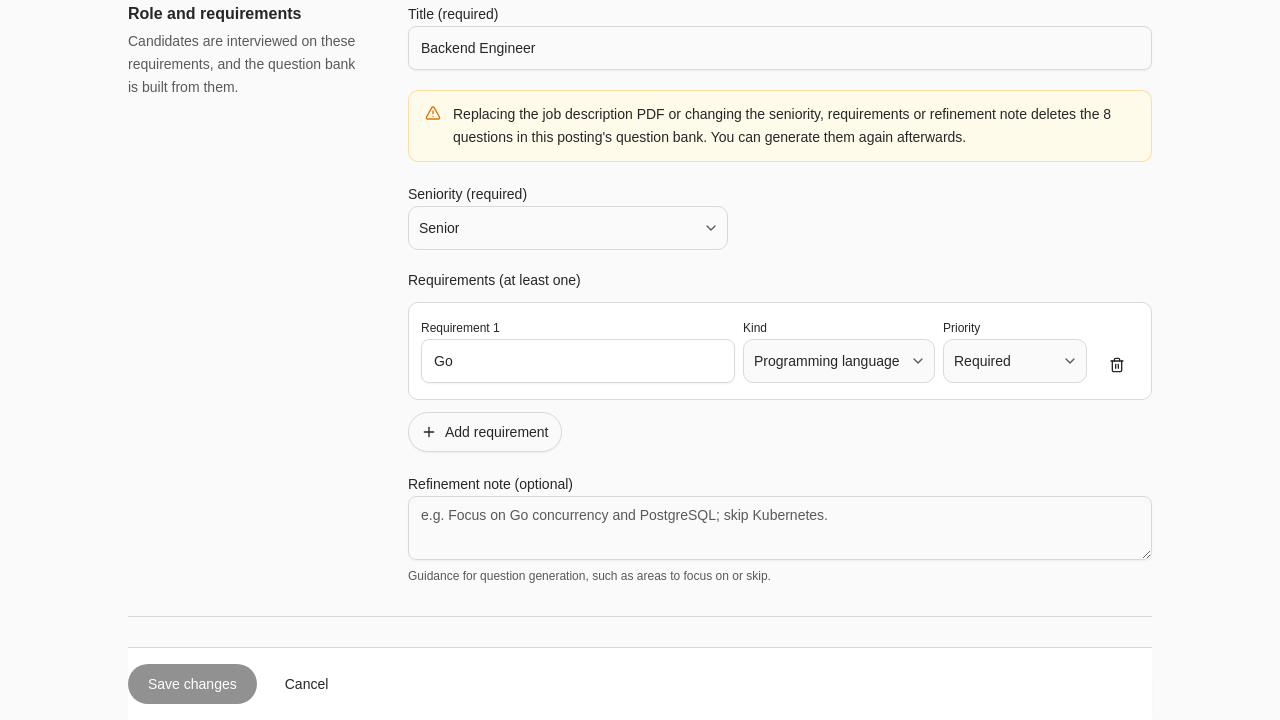
Scenario: JobPostingDetail › drops stale edits and shows the saved requirements after a lock conflict
The image size is (1280, 720).
(page scrolled)
Step 1. Replace the text in the field labelled "Requirement 1" with "Golang" → (578, 361), box top-left (421, 339), bottom-right (735, 383)
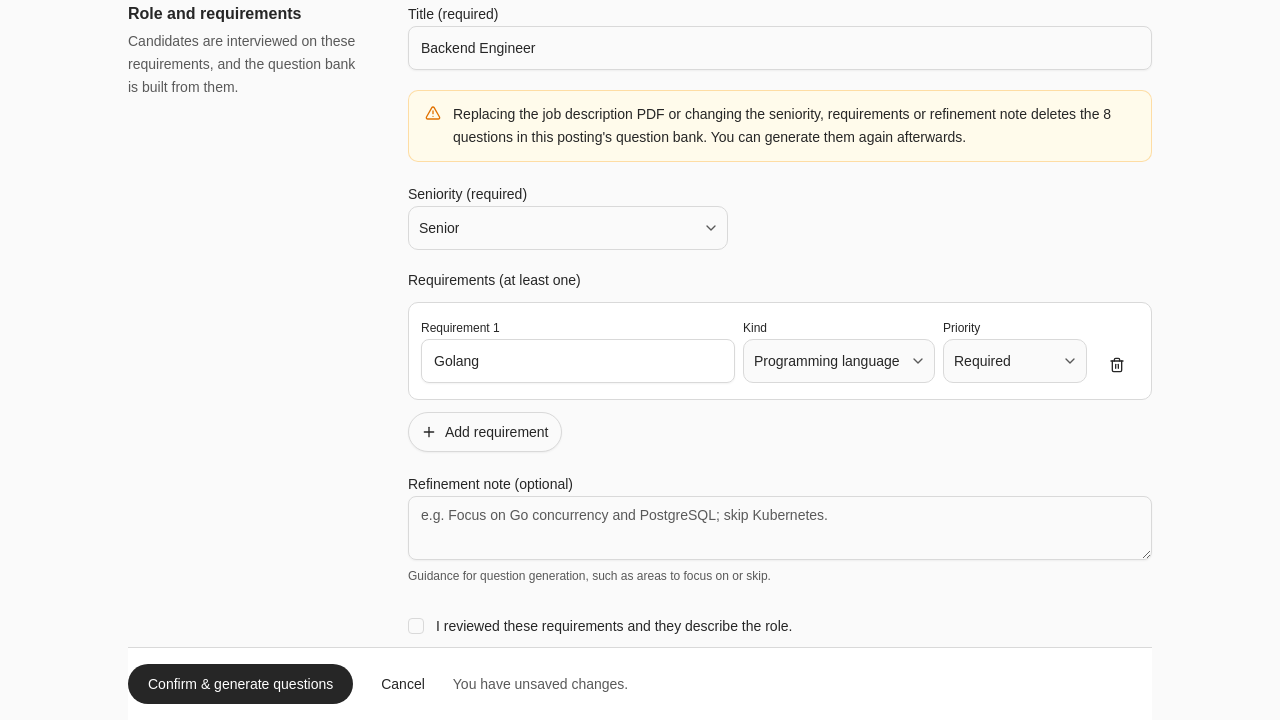
Step 2. Click the checkbox named "i reviewed these requirements" → (416, 626), box top-left (408, 618), bottom-right (424, 634)
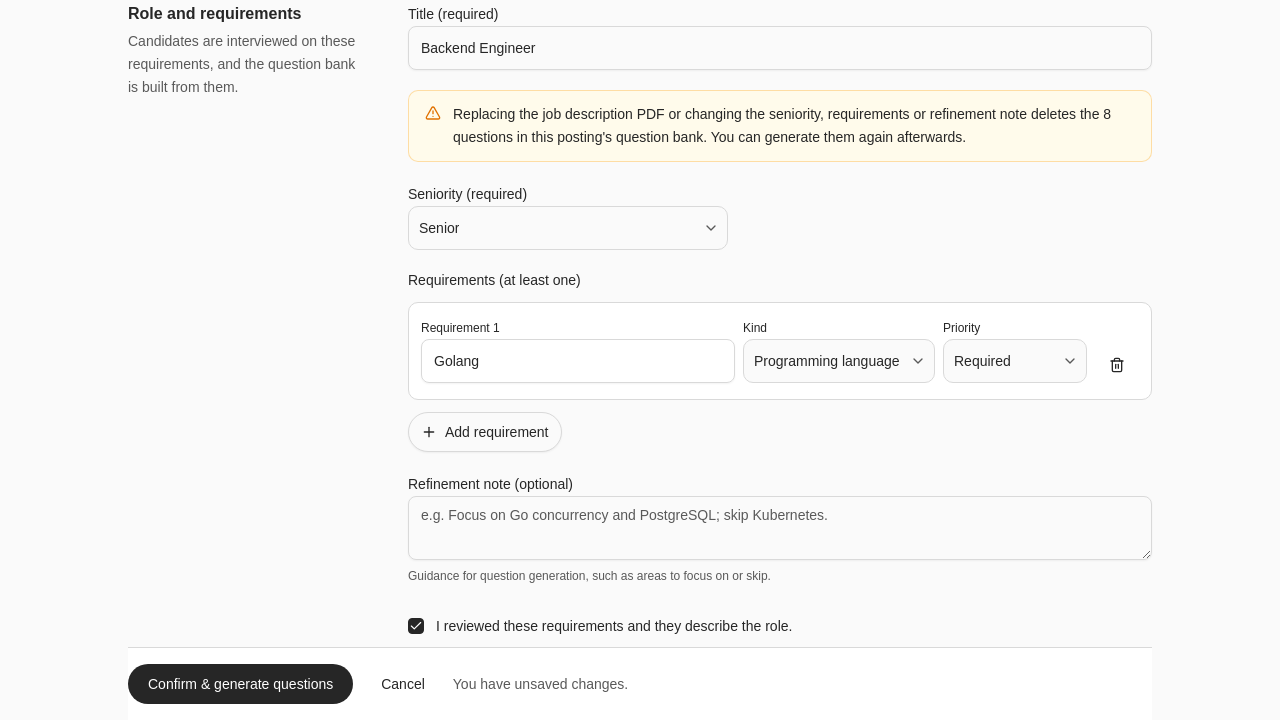
Step 3. Click the button "Confirm & generate questions" → (241, 684), box top-left (128, 664), bottom-right (353, 704)
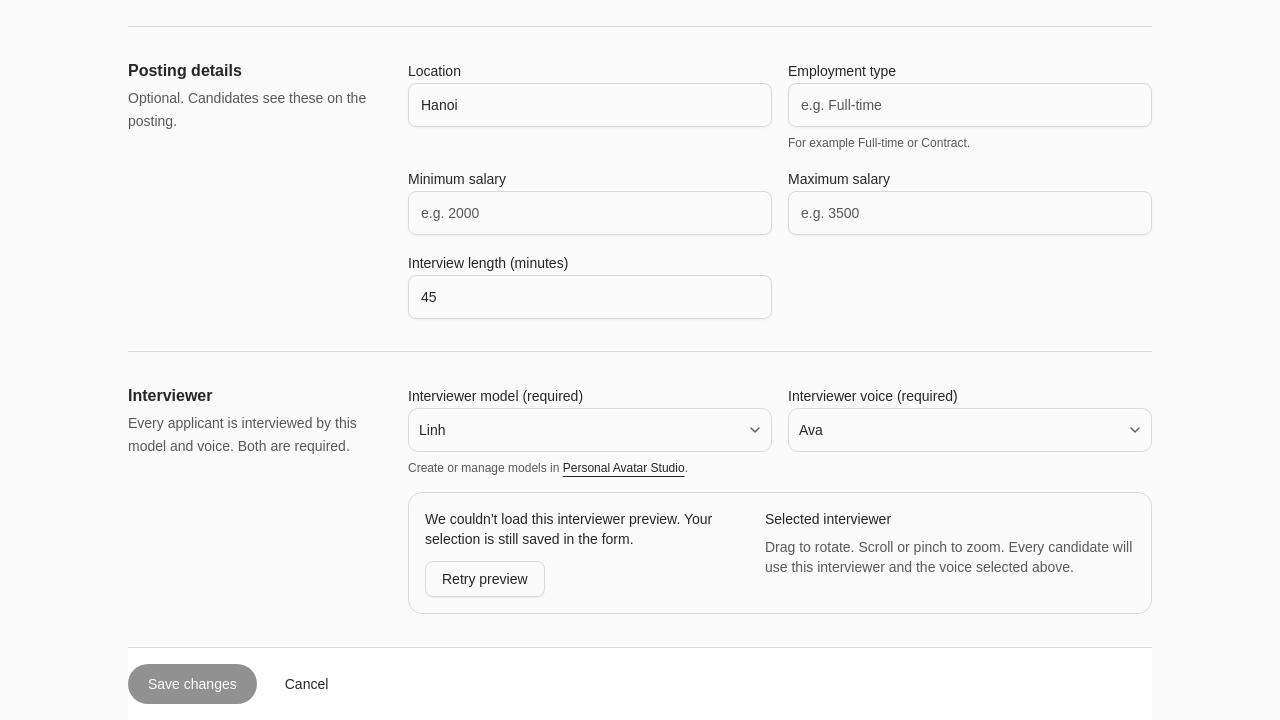
Expected: the text "Golang" is not shown
Expected: the button "Save changes" is disabled, top-left (128, 664), bottom-right (257, 704)
